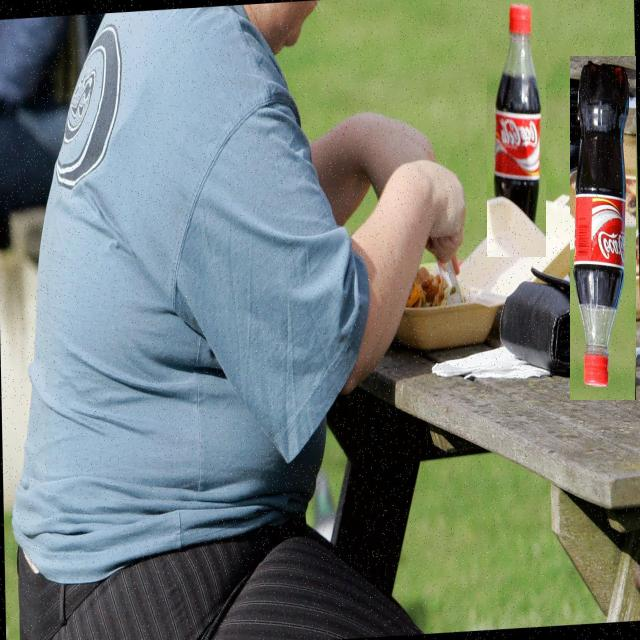coca-cola: (570, 57, 636, 400), (487, 0, 546, 257)
